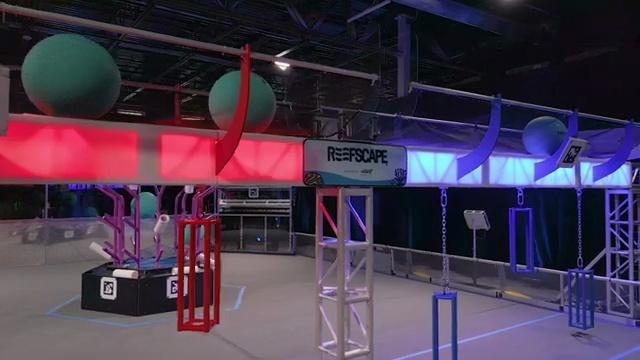ALGAE: (20, 32, 121, 119), (208, 69, 276, 134), (522, 117, 569, 157)
